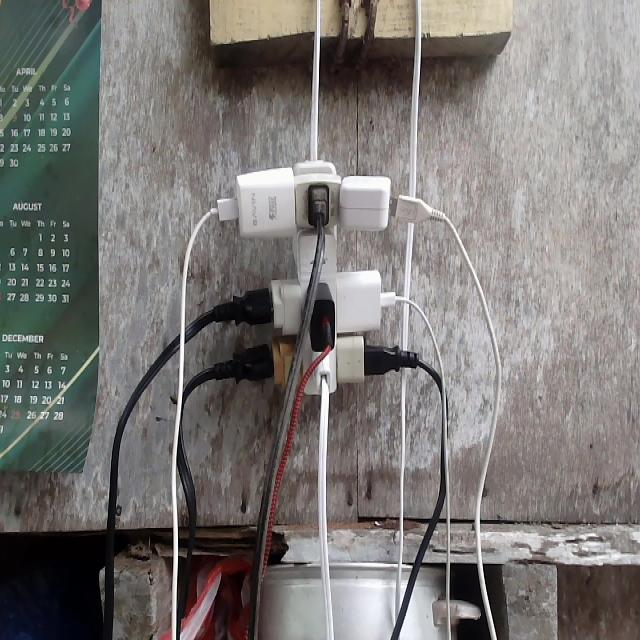-: (209, 153, 406, 392)
